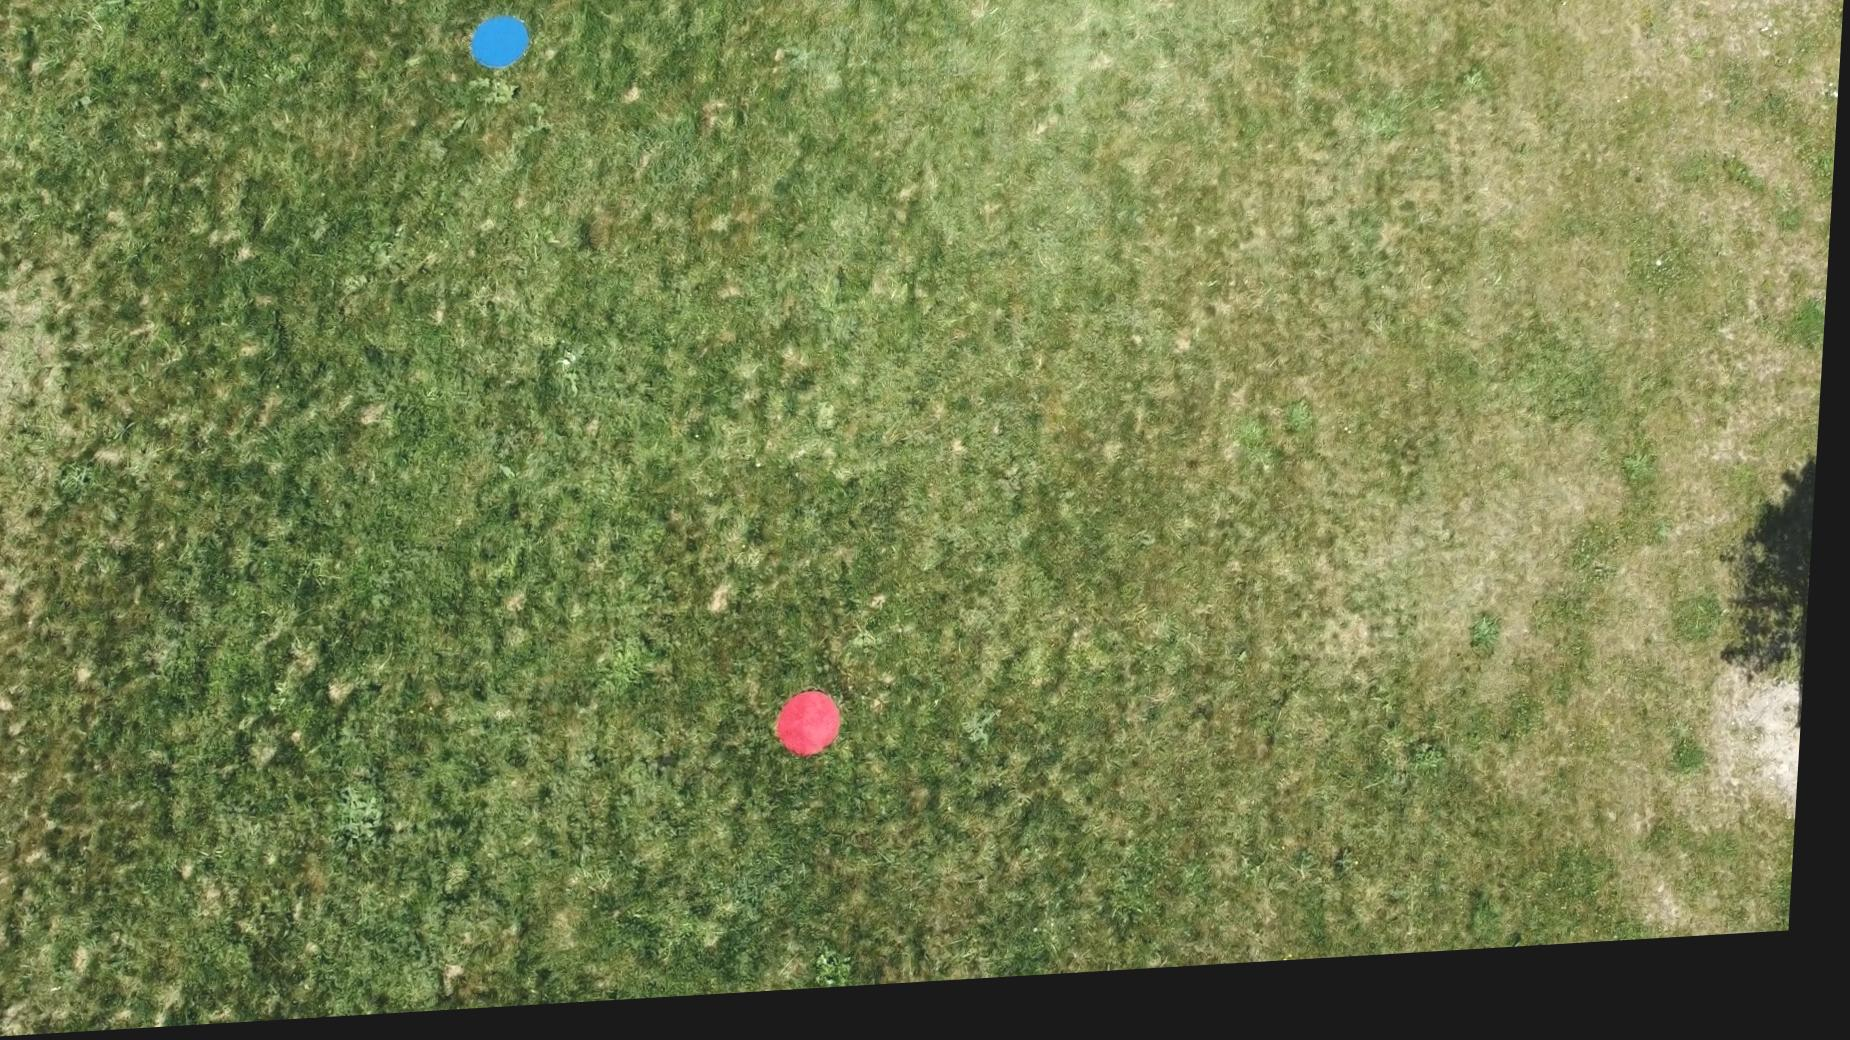Blue: (466, 17, 535, 79)
Red: (780, 697, 855, 770)
